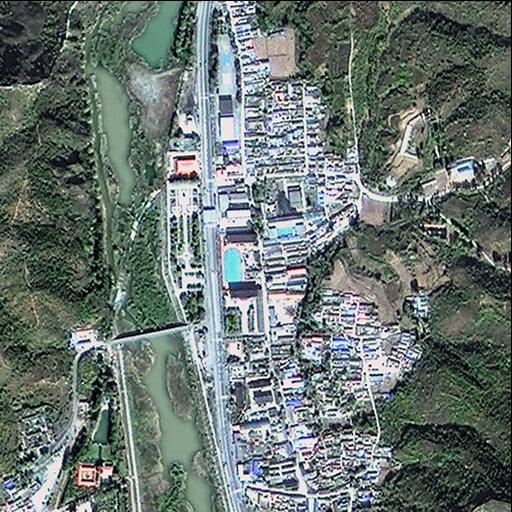school: (219, 230, 308, 295)
